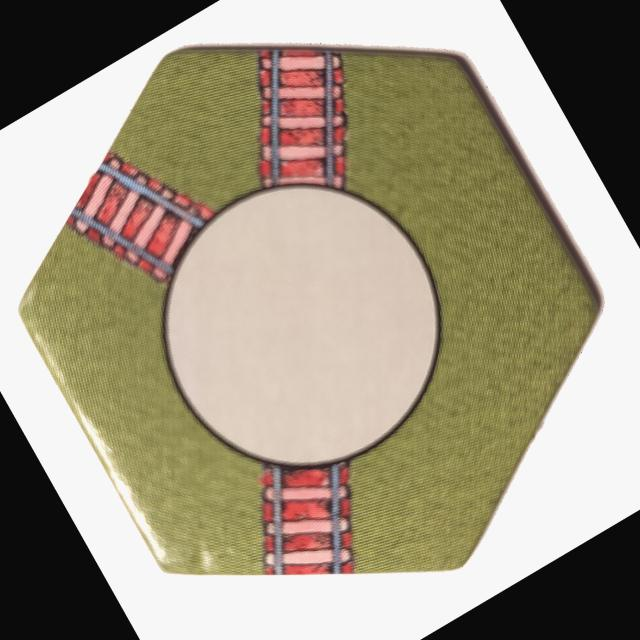14_2: (18, 48, 603, 571)
